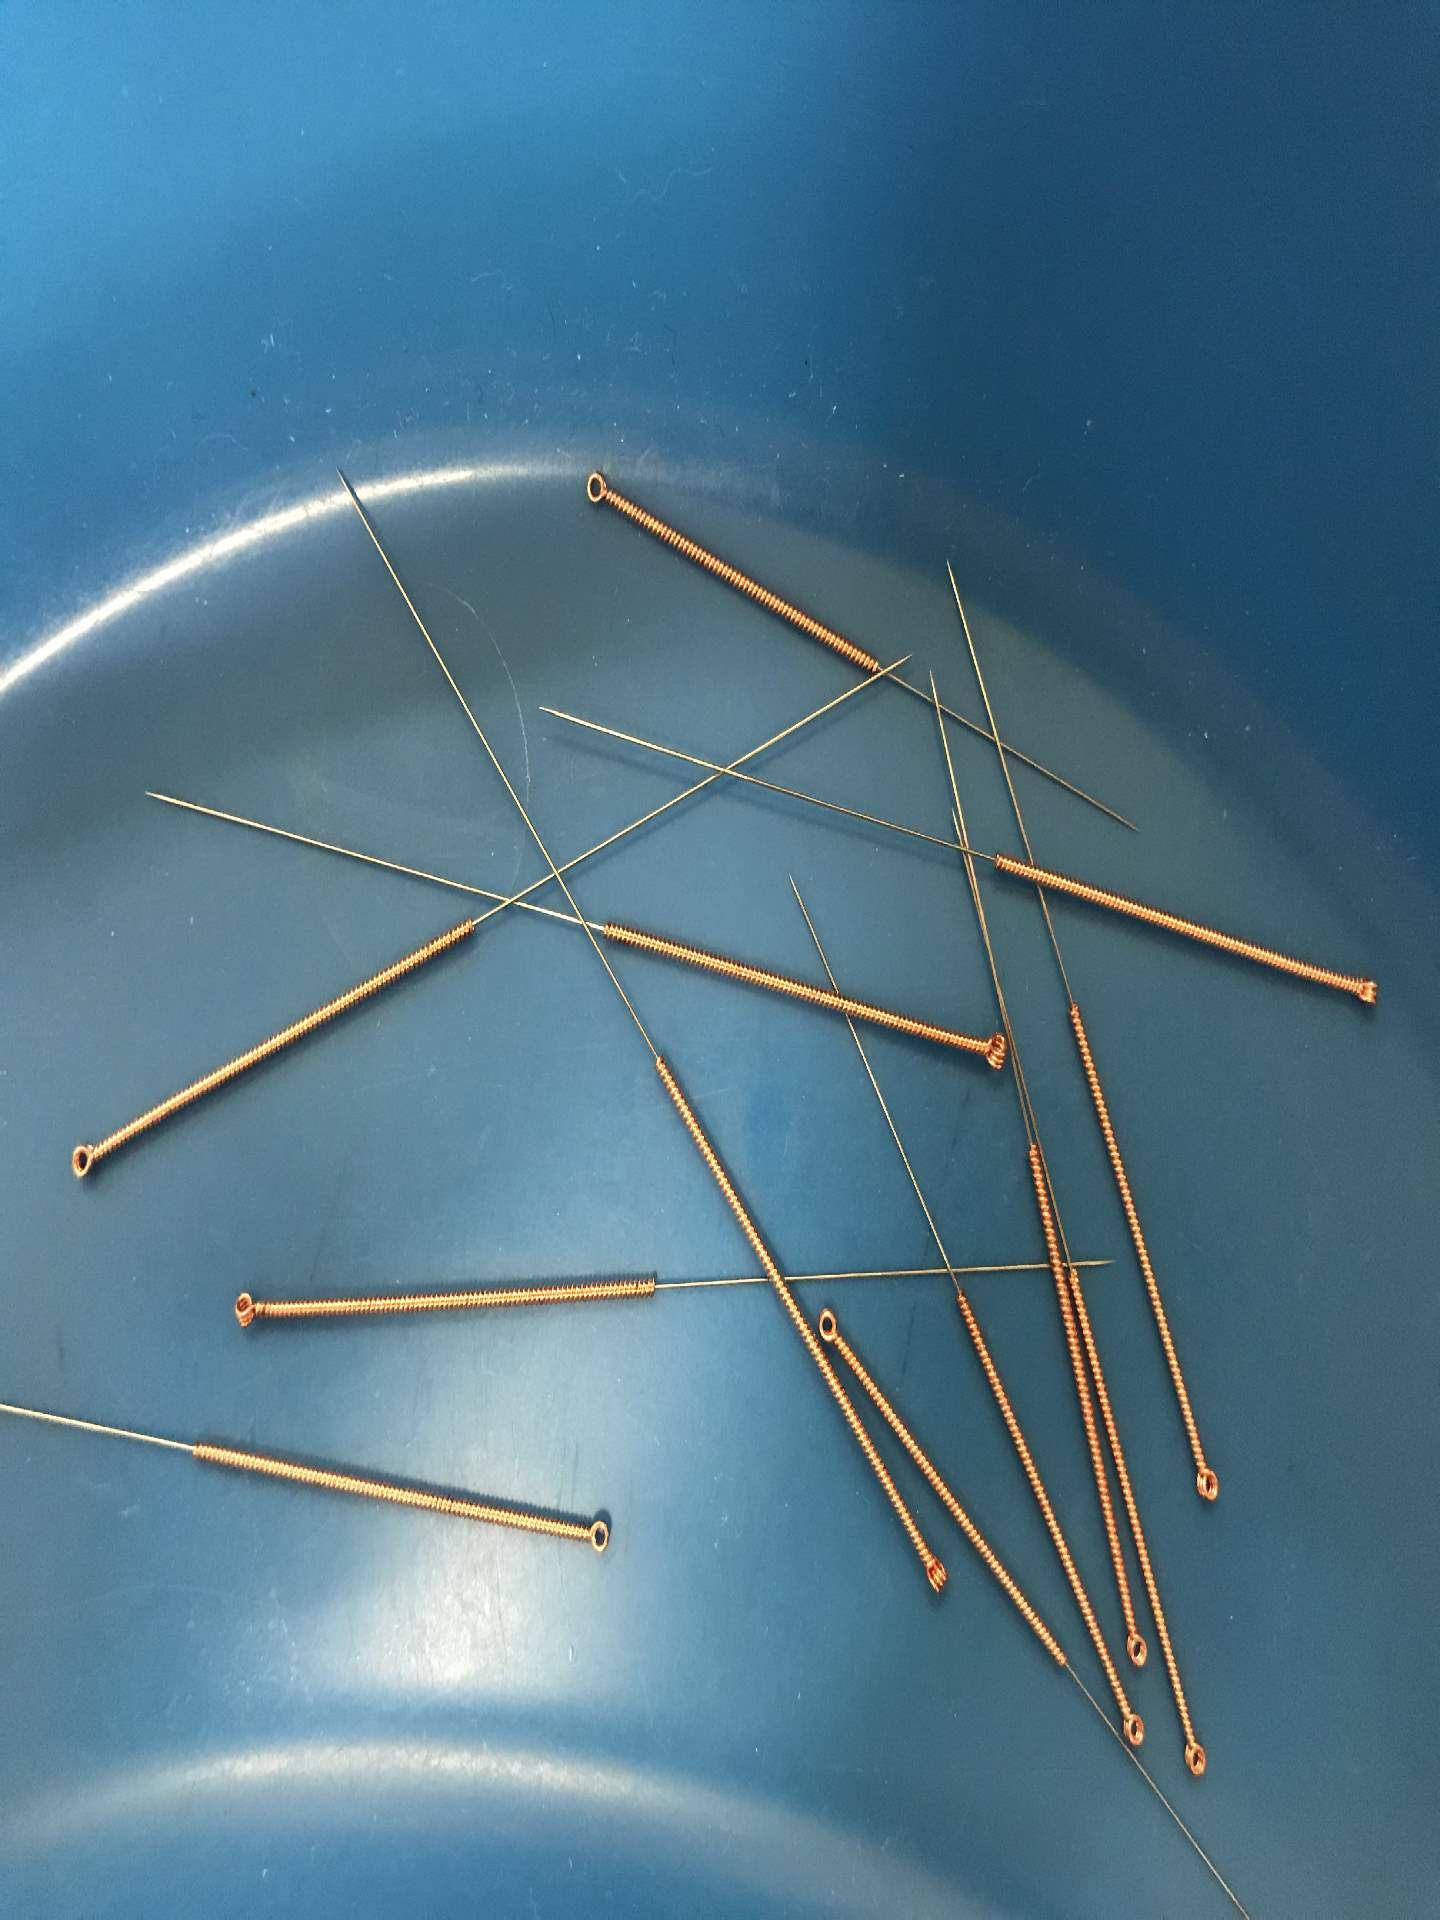needle: (1103, 1681, 1154, 1760), (957, 1019, 1016, 1082), (563, 1501, 622, 1563), (56, 1126, 113, 1188), (911, 1541, 959, 1609), (218, 1287, 280, 1338), (1172, 1720, 1218, 1788), (1339, 960, 1390, 1019), (1187, 1441, 1231, 1509), (570, 466, 626, 519), (1116, 1610, 1153, 1674), (812, 1294, 849, 1353)
